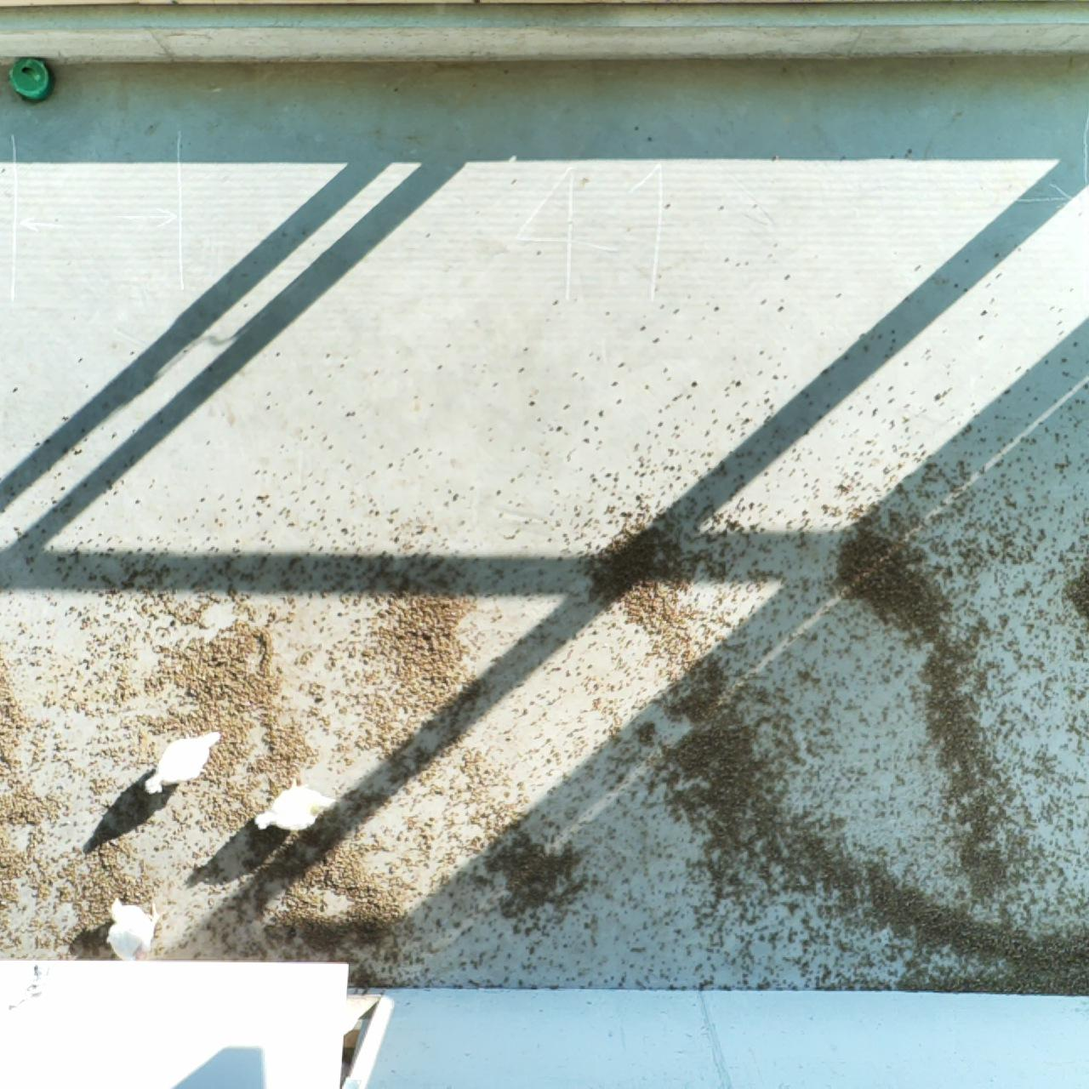chicken: (141, 725, 224, 799), (251, 779, 339, 836), (102, 890, 169, 964)
